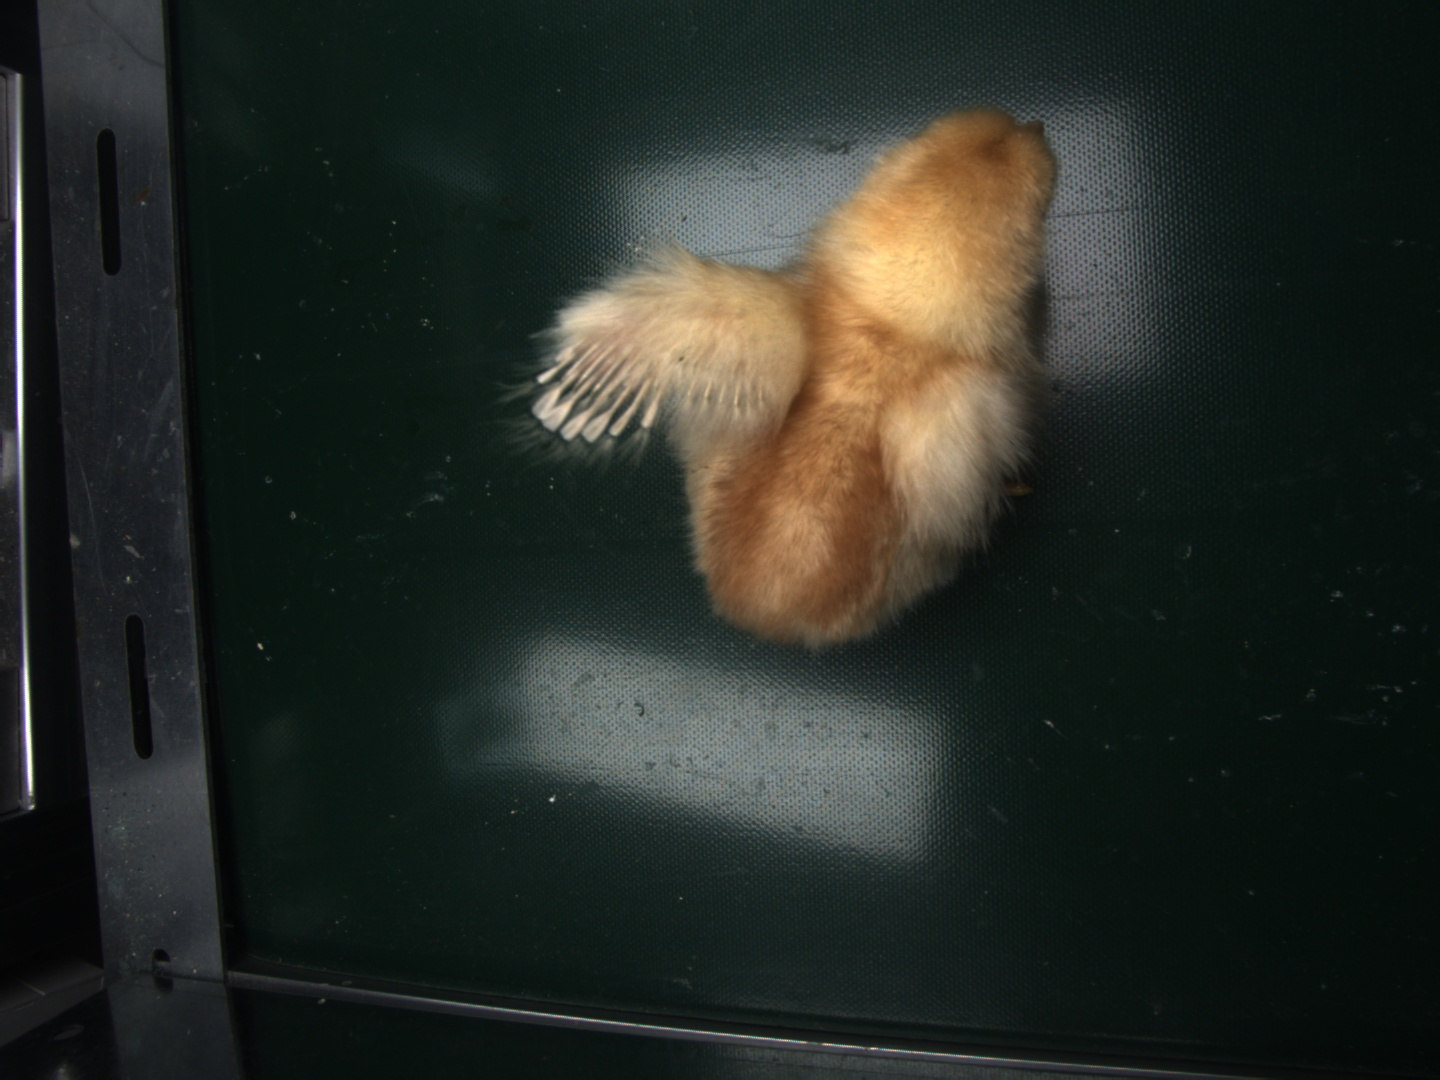female: (530, 339, 661, 436)
